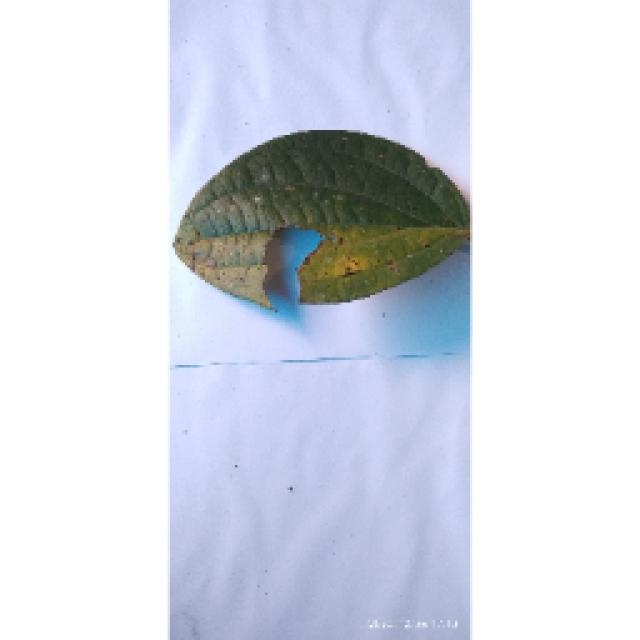slow-decline: (170, 128, 468, 310)
